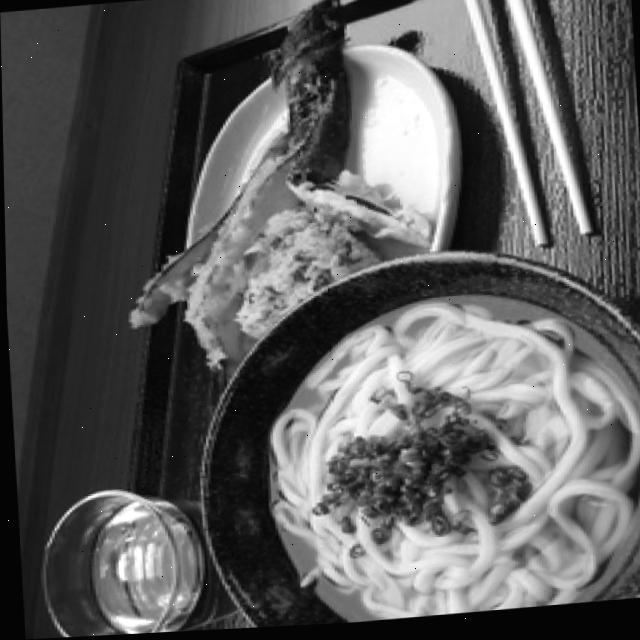面条主食: (195, 255, 640, 632)
